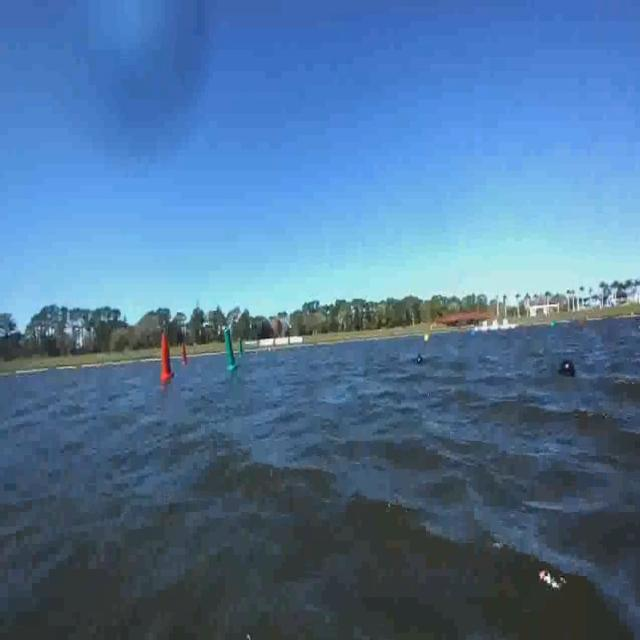blue-buoy: (560, 358, 576, 380)
green-buoy: (551, 322, 558, 332)
green-column-buoy: (222, 327, 238, 371)
red-column-buoy: (160, 332, 174, 380), (183, 342, 191, 364)
yellow-buoy: (423, 333, 431, 346)
